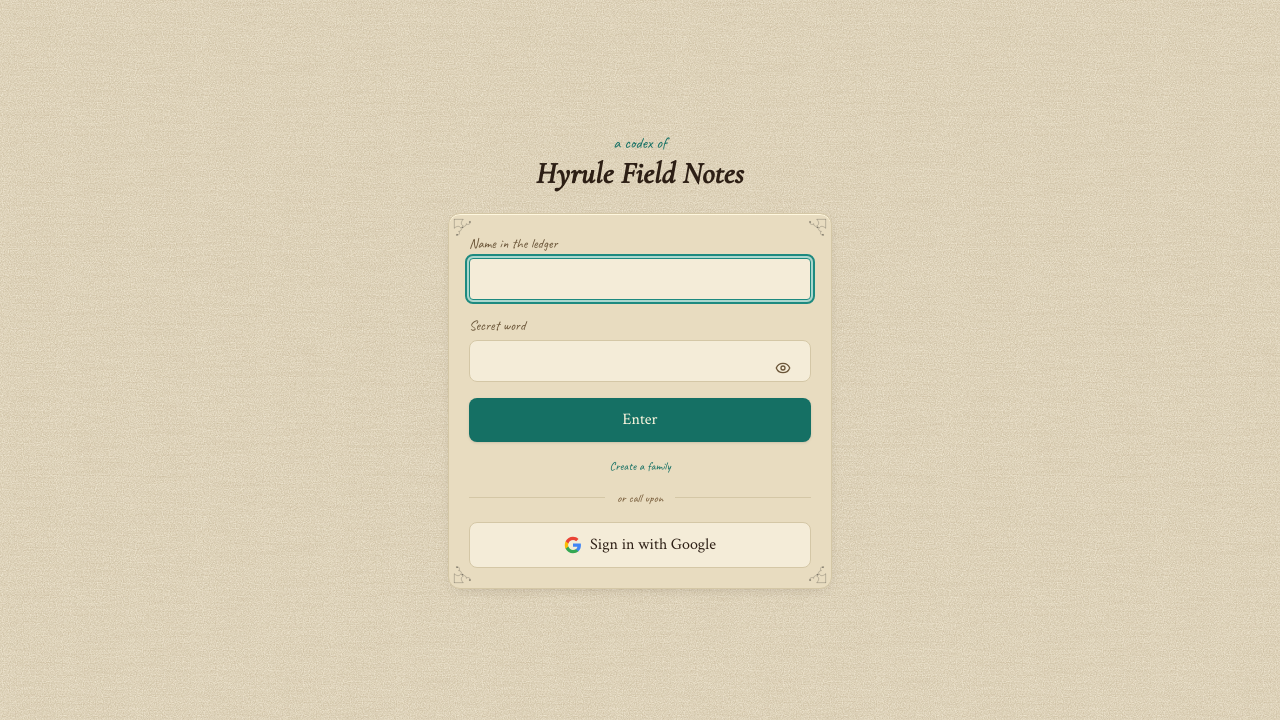
Login › handles google login URL fetch error
This screenshot has width=1280, height=720.
Click the button "Sign in with Google". click: point(640, 545)
box: x1=469 y1=522 x2=811 y2=568
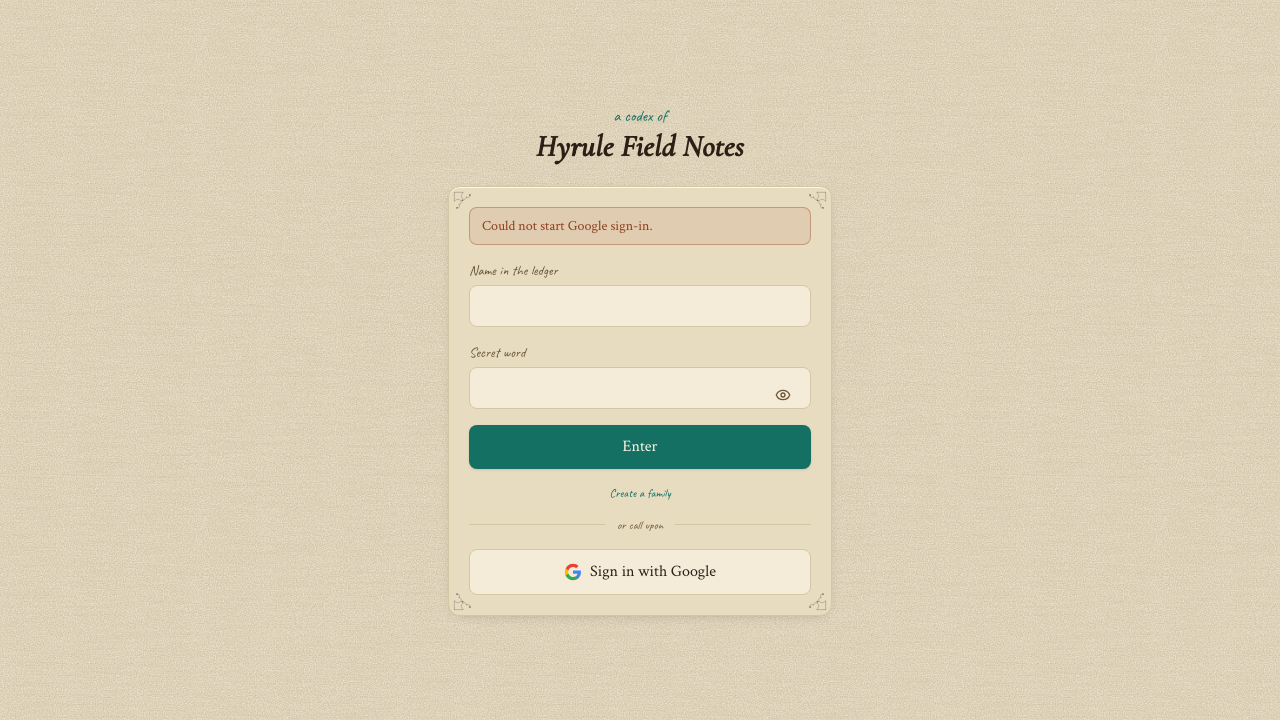
Expected: the text "Could not start Google sign-in." is shown, x1=482 y1=217 x2=653 y2=235
